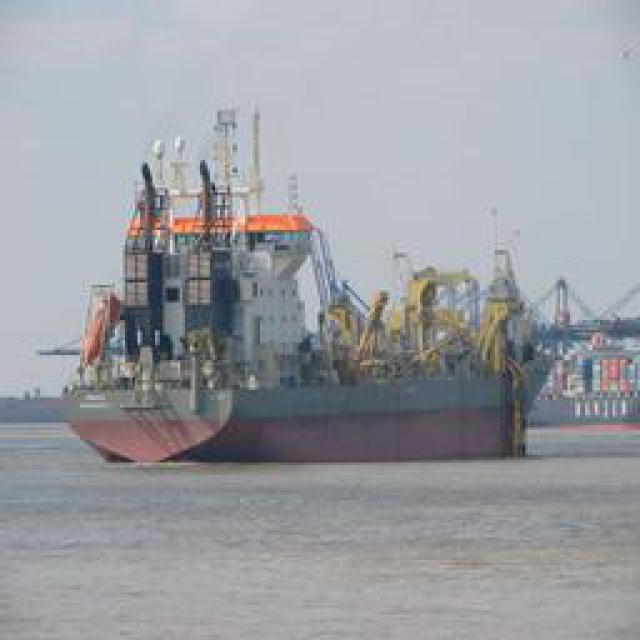Ship: (66, 185, 374, 393)
